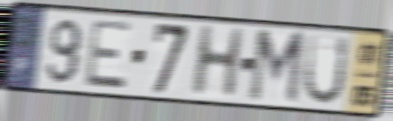7: (151, 20, 191, 97)
9: (47, 16, 84, 87)
E: (82, 18, 135, 92)
H: (188, 23, 247, 99)
M: (246, 27, 308, 108)
U: (301, 33, 352, 108)
